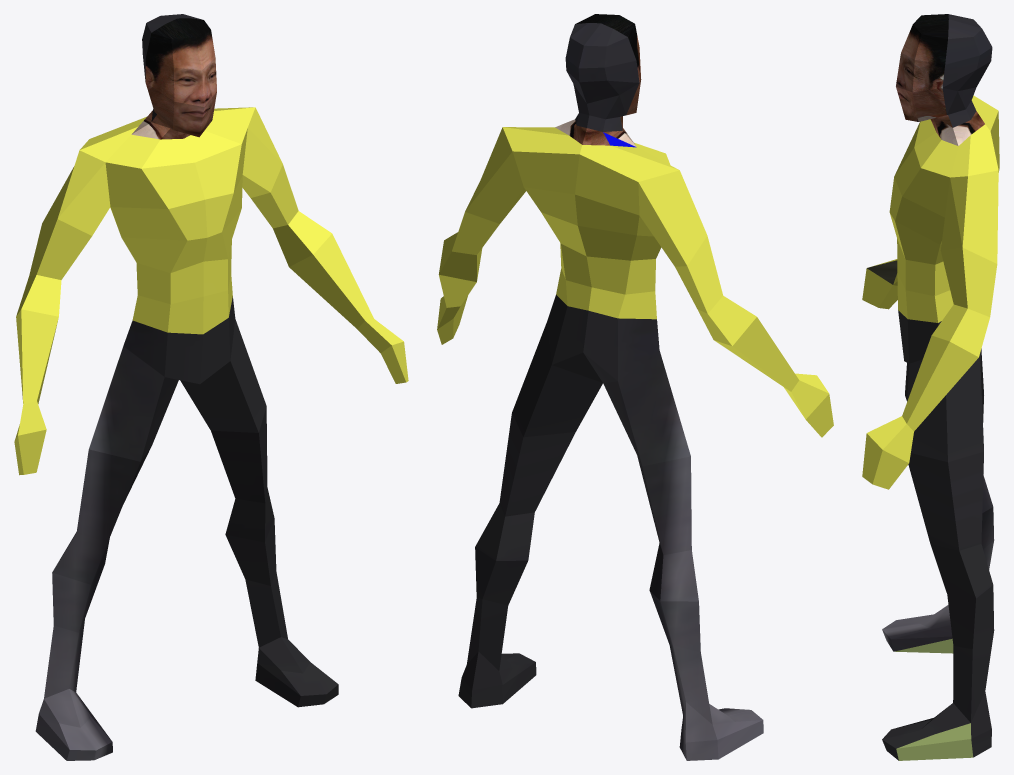
3 views of the same model, side by side, from view 1: azimuth 30°, elevation 25°; view 2: azimuth 150°, elevation 25°; view 3: azimuth 270°, elevation 25° (orthographic). The views are drawn at different scales.
Visible parts, largest first — view 1: BASE_Low_Poly_Man_Cube.001; view 2: BASE_Low_Poly_Man_Cube.001; view 3: BASE_Low_Poly_Man_Cube.001.
Boxes of the visible parts, x1,y1,x2,y2 form: BASE_Low_Poly_Man_Cube.001: (14,14,408,760); BASE_Low_Poly_Man_Cube.001: (437,14,833,760); BASE_Low_Poly_Man_Cube.001: (862,14,999,760).
Bounding box in the file's own units: 317 × 542 × 99.74.
